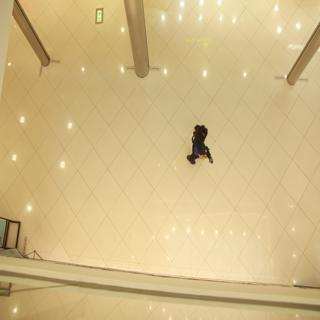person: (183, 107, 217, 177)
